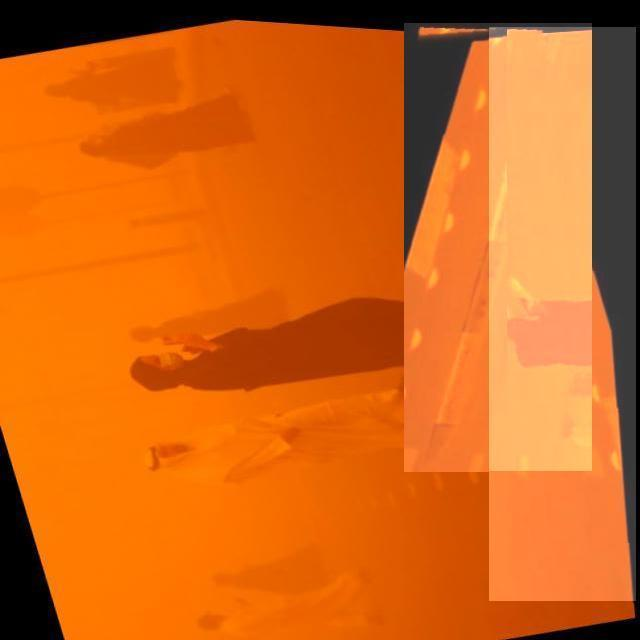Speed Bump: (404, 23, 592, 472), (489, 28, 636, 602)
